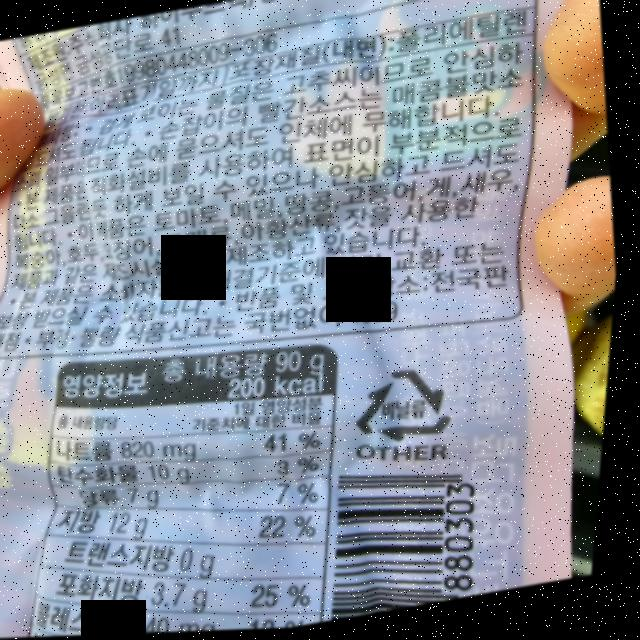Vinyl: (350, 362, 470, 458)
